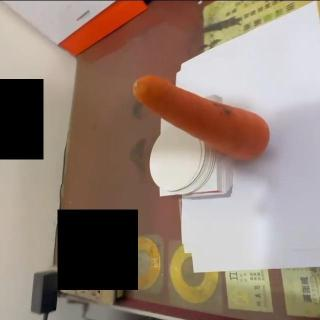carrot: (134, 75, 268, 158)
